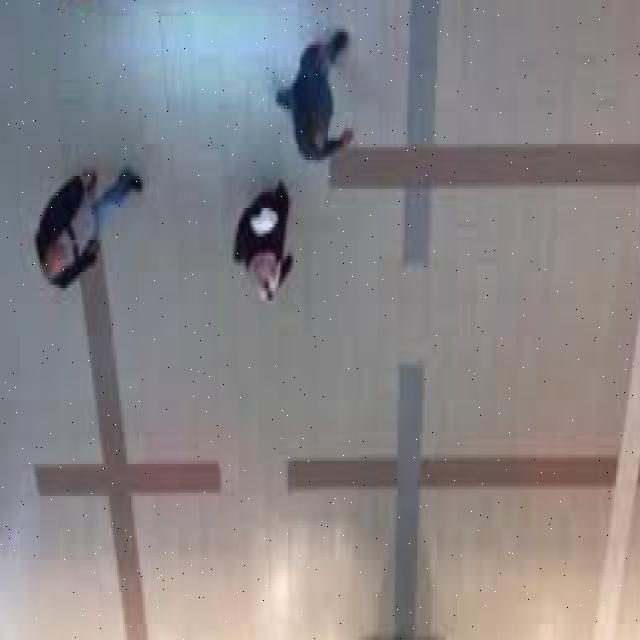humans: (33, 158, 145, 298), (275, 28, 359, 164), (230, 176, 298, 309)
